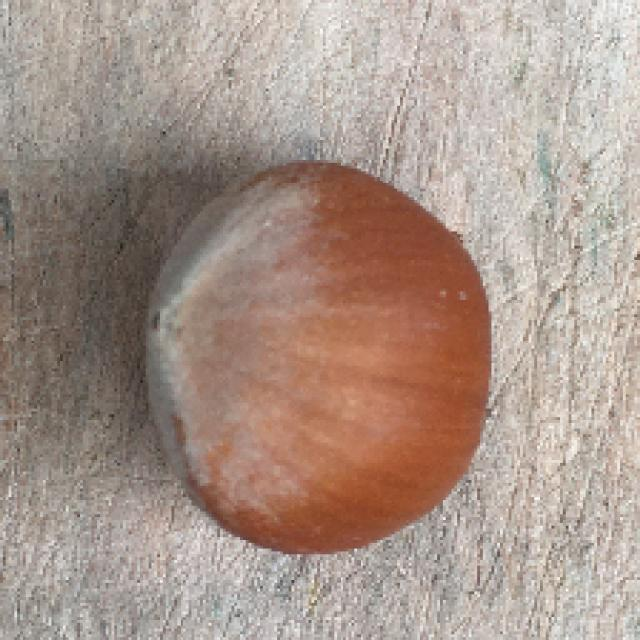qualityHazelnut: (136, 143, 504, 573)
